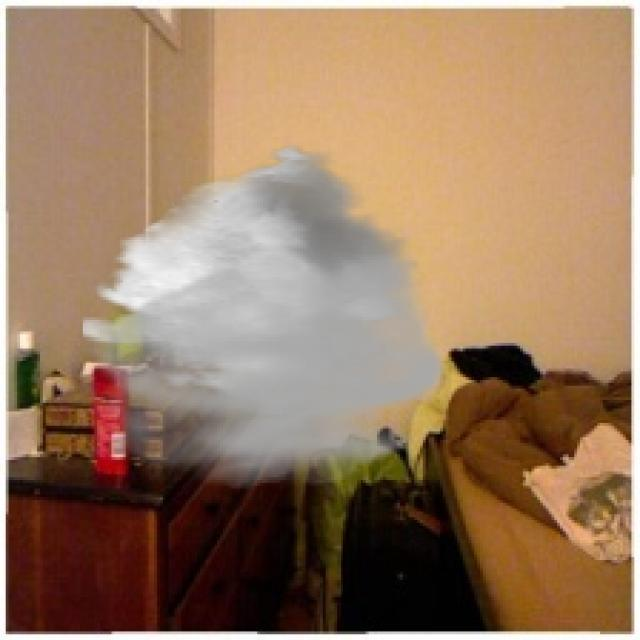Smoke: (82, 142, 452, 488)
